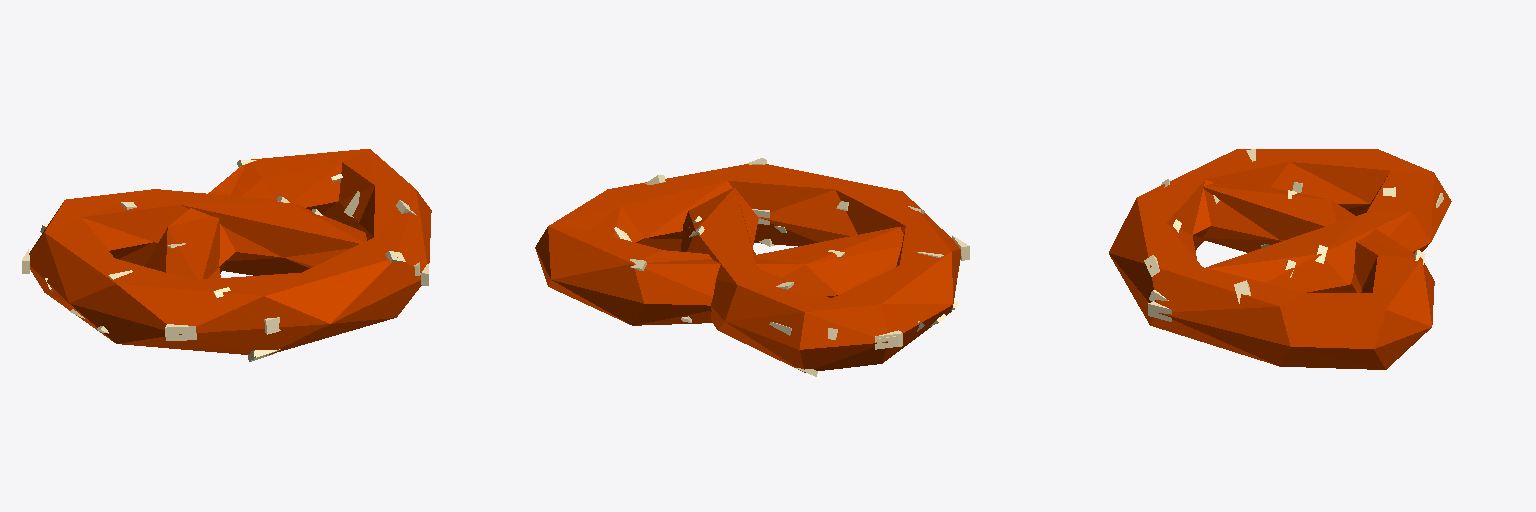
3 views of the same model, side by side, from view 1: azimuth 30°, elevation 25°; view 2: azimuth 150°, elevation 25°; view 3: azimuth 270°, elevation 25° (orthographic).
Visible parts, largest first — view 1: BezierCurve_Mesh, Cube.033_Mesh; view 2: BezierCurve_Mesh, Cube.033_Mesh; view 3: BezierCurve_Mesh, Cube.033_Mesh.
Boxes of the visible parts, x1=… form: BezierCurve_Mesh: x1=29, y1=149, x2=431, y2=355; Cube.033_Mesh: x1=22, y1=160, x2=428, y2=361; BezierCurve_Mesh: x1=535, y1=164, x2=960, y2=372; Cube.033_Mesh: x1=614, y1=158, x2=969, y2=376; BezierCurve_Mesh: x1=1109, y1=149, x2=1451, y2=369; Cube.033_Mesh: x1=1144, y1=149, x2=1443, y2=321.
Bounding box in the file's own units: 0.0685 × 0.0133 × 0.0547.
1 materials, 1 textured.